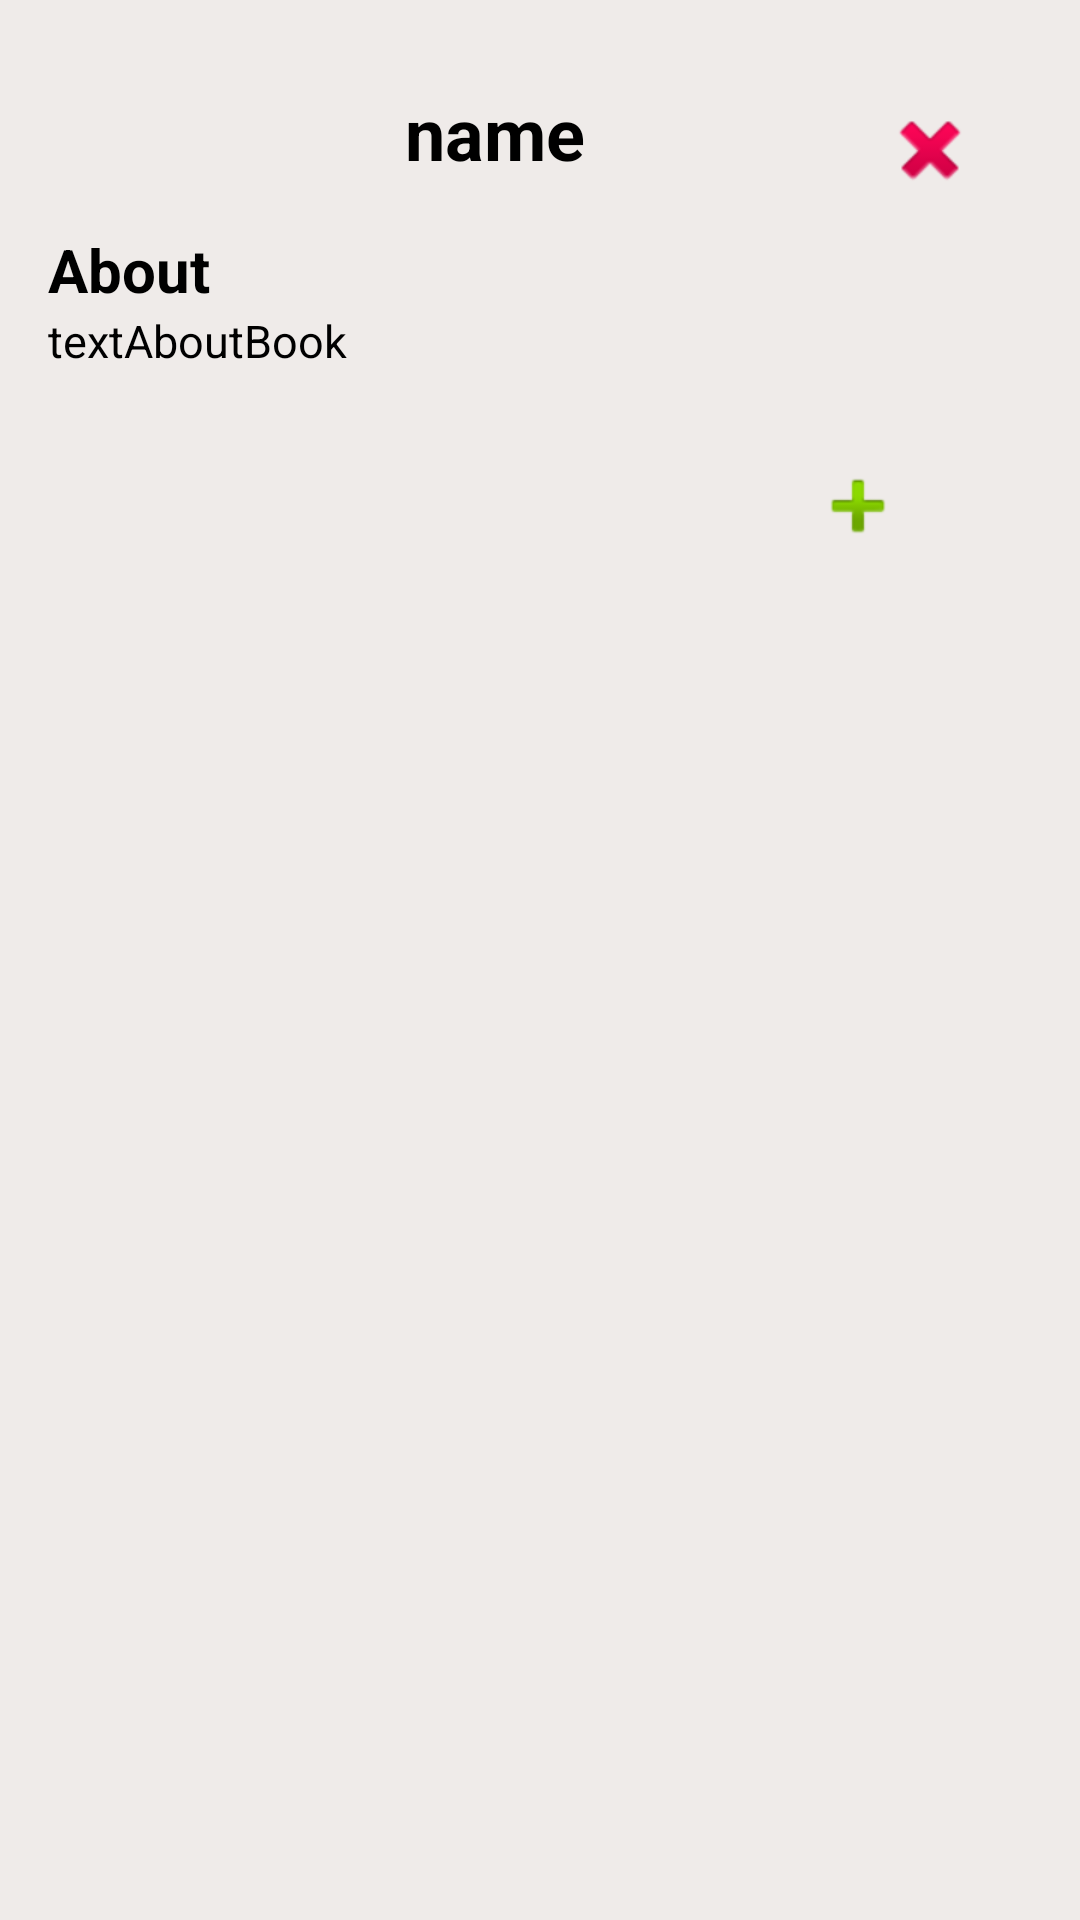

Screen size 1080 × 1920. Icon name, then its box in pixels as (x1, y1, x2, y2):
add: (831, 479, 885, 533)
delete: (899, 121, 961, 180)
